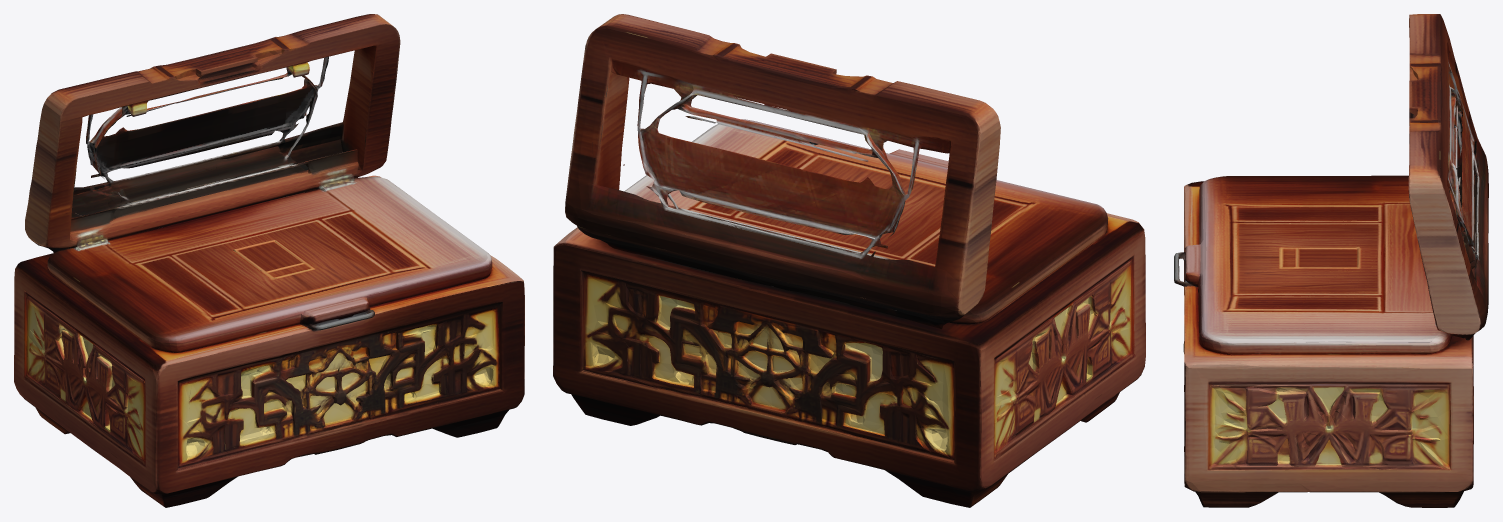
File: wooden-jewelry-box-futuristic.jpeg.glb
3 views of the same model, side by side, from view 1: azimuth 30°, elevation 25°; view 2: azimuth 150°, elevation 25°; view 3: azimuth 270°, elevation 25° (orthographic). The views are drawn at different scales.
Visible parts, largest first — view 1: world; view 2: world; view 3: world.
Part boxes in pixels (x1,y1,x2,y2): world: [14, 14, 524, 507]; world: [553, 14, 1145, 507]; world: [1174, 14, 1488, 507].
Size of the model in its own units: 0.9999 by 0.8593 by 0.7316.
Materials: 1 (1 with a texture image).
